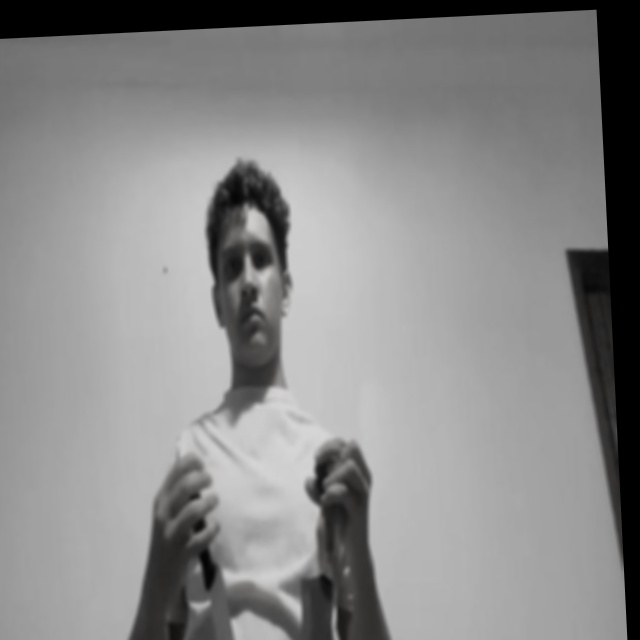Sharp-Object: (293, 573, 339, 640), (207, 562, 242, 640)
